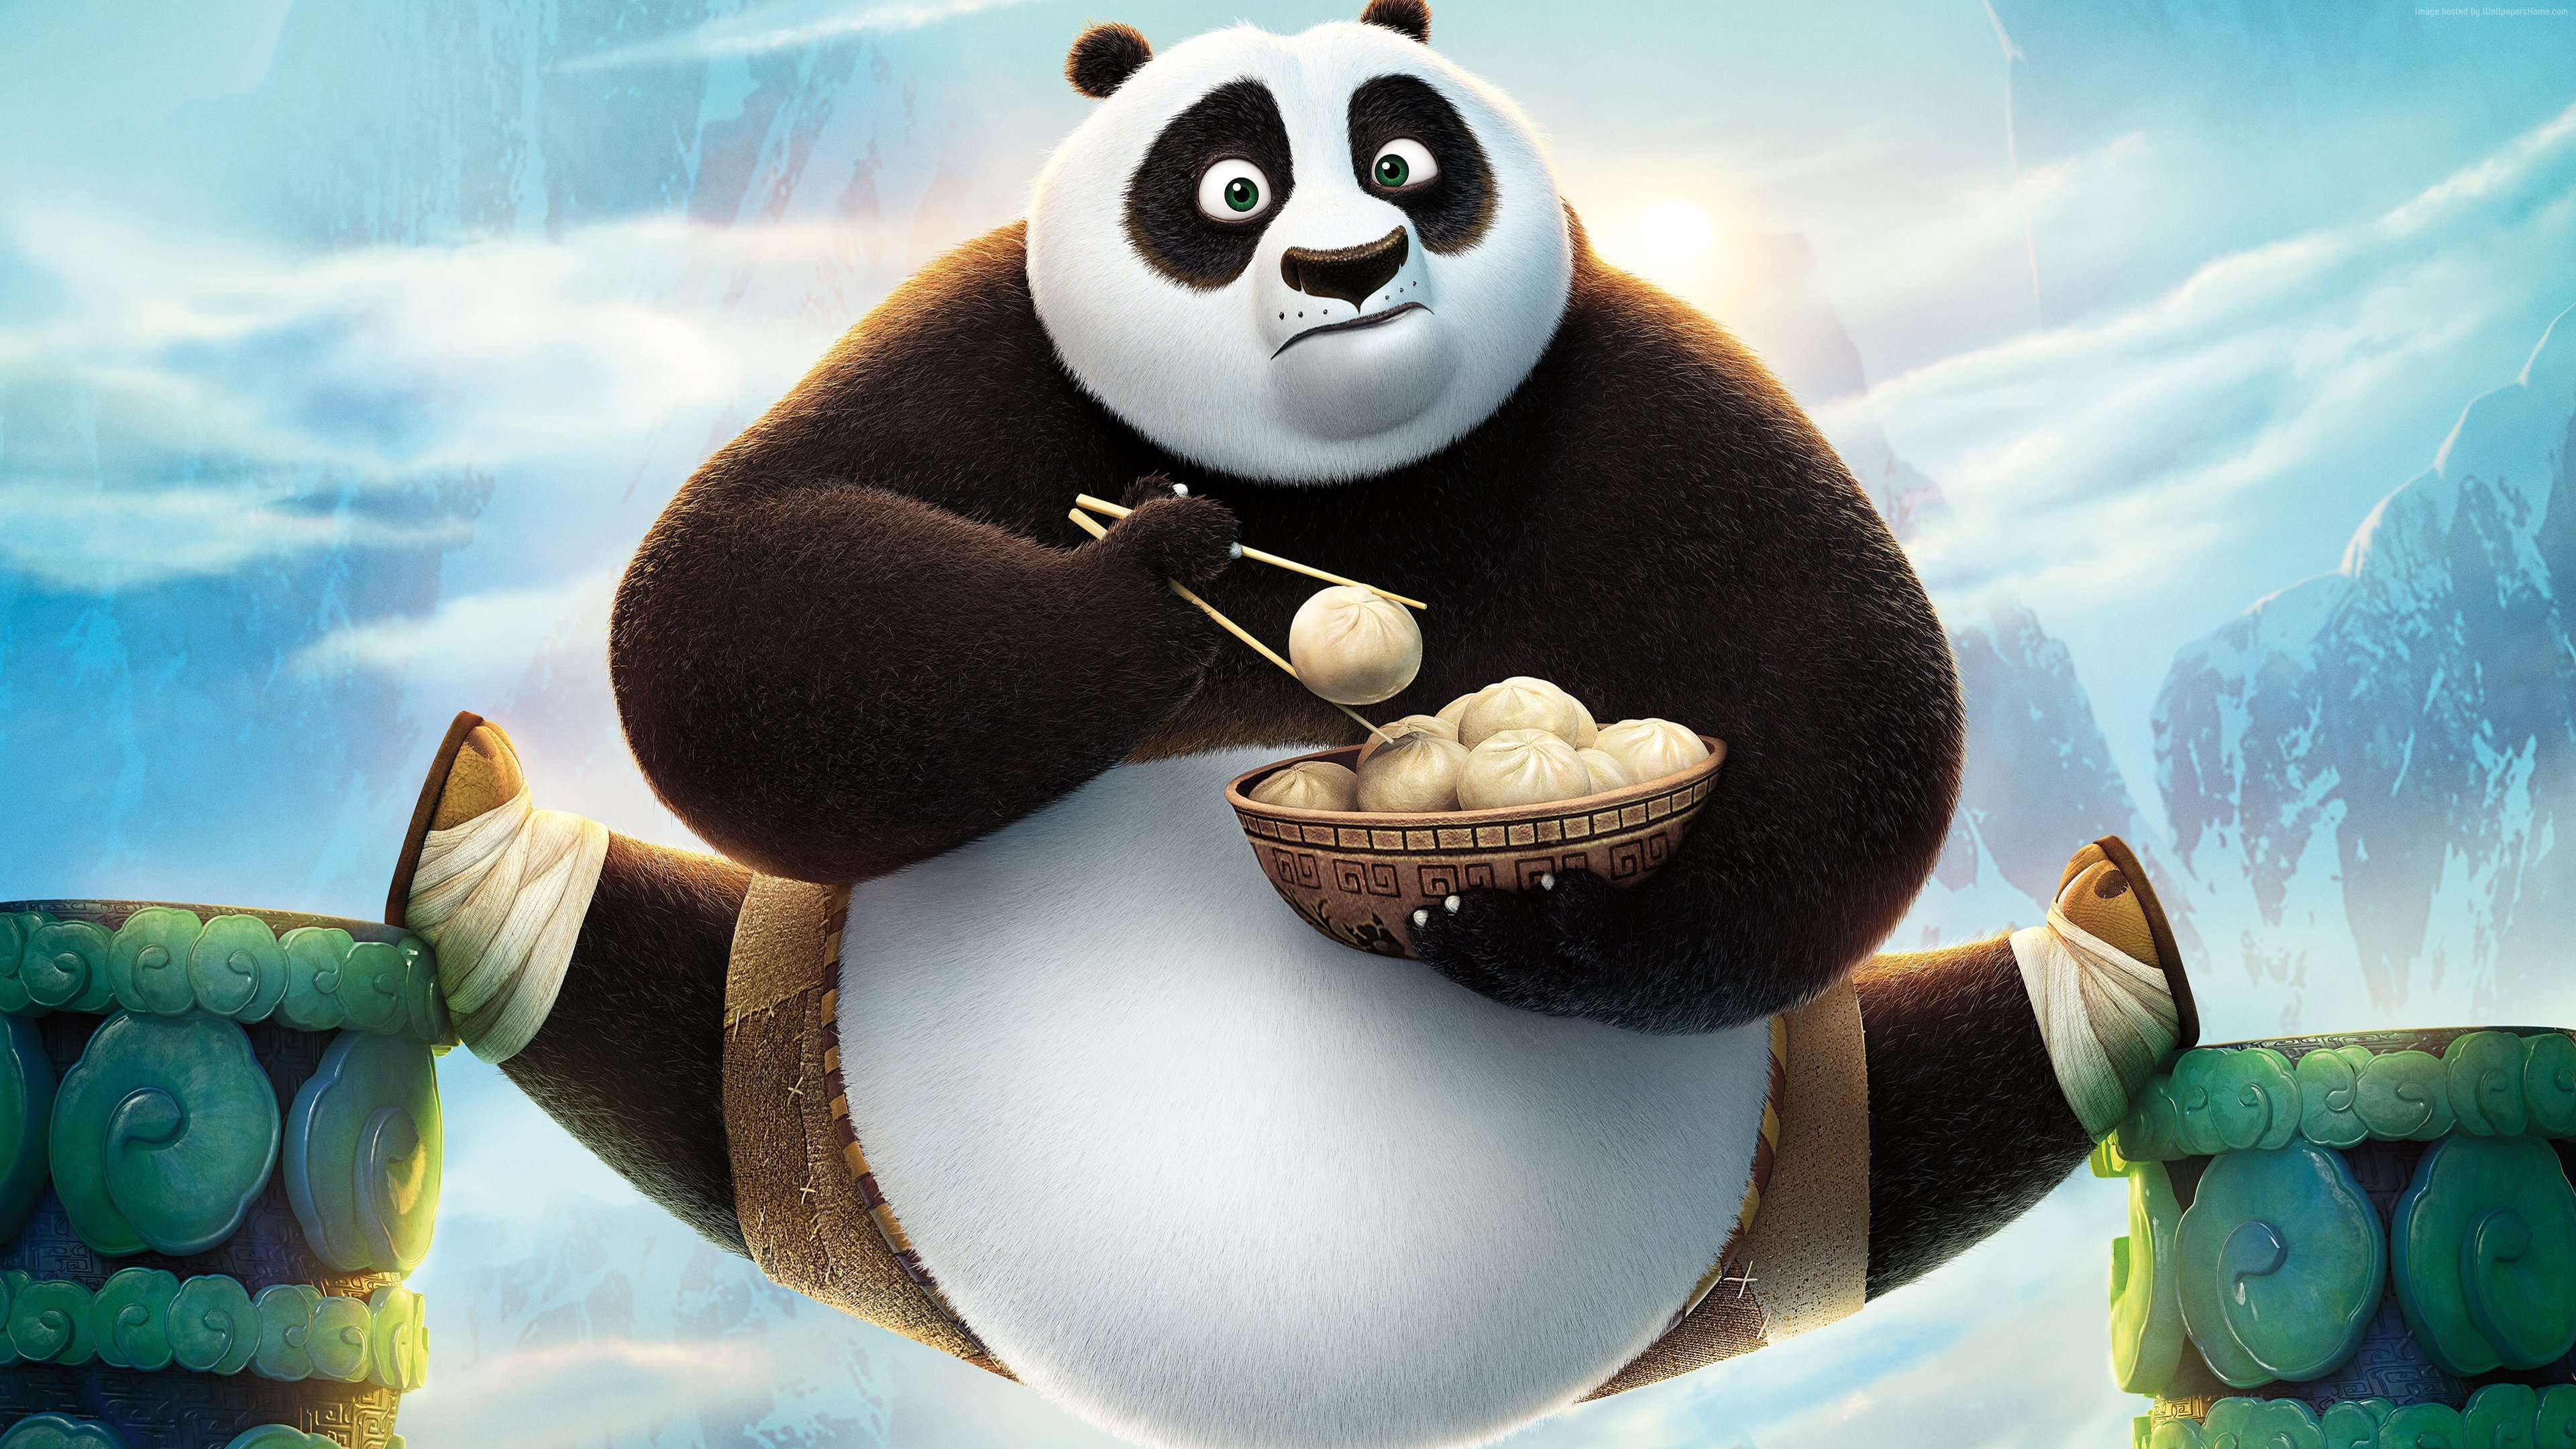panda: (414, 5, 2265, 1396)
